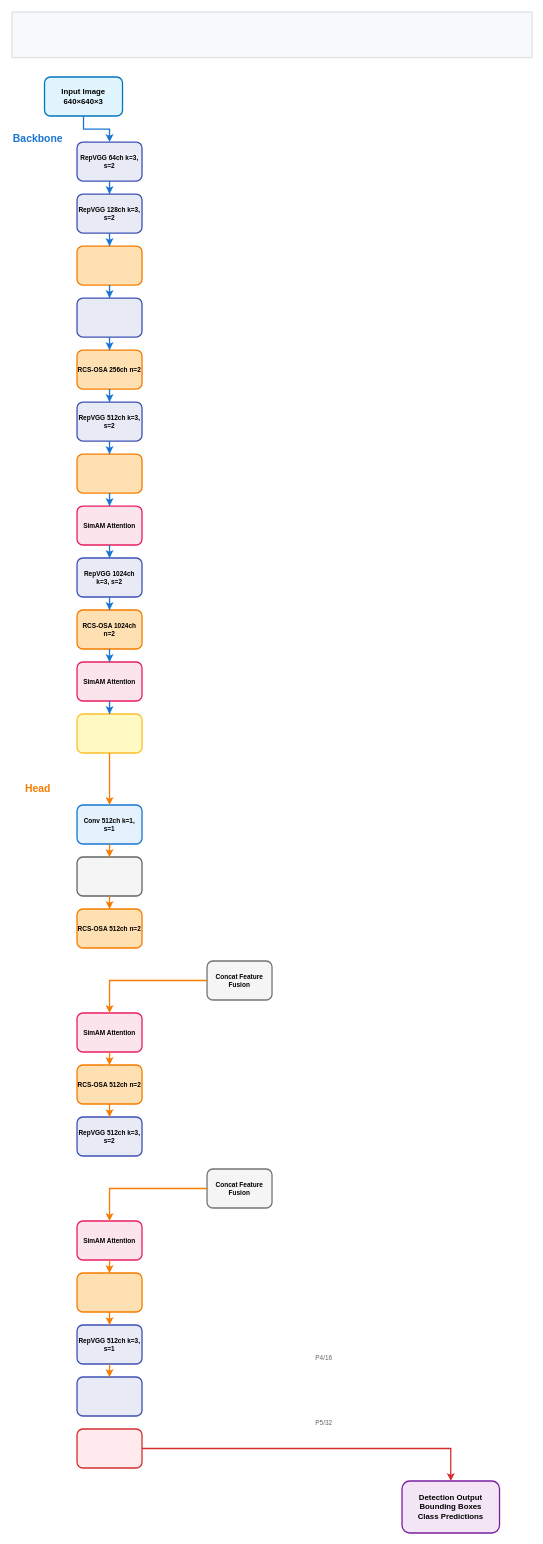
Image size: 543x1544. Some labels were removed from this diagram. Each missing label, with the centre of its shape:
"IDetect Classes: nc" goes at point 109,1448.
"RCS-OSA 128ch n=2" goes at point 109,265.
"RCS-OSA 512ch n=4" goes at point 109,473.
"RCS-OSA 768ch n=2" goes at point 109,1292.
"RepVGG 256ch k=3, s=2" goes at point 109,317.
"RepVGG 768ch k=3, s=1" goes at point 109,1396.
"SPPF 1024ch k=5" goes at point 109,733.
"Upsample ×2" goes at point 109,876.
"YOLOv4-RepVGG-RCSOSA-SimAM Ultimate: RepVGG + RCS-OSA + SimAM" goes at point 271,34.
